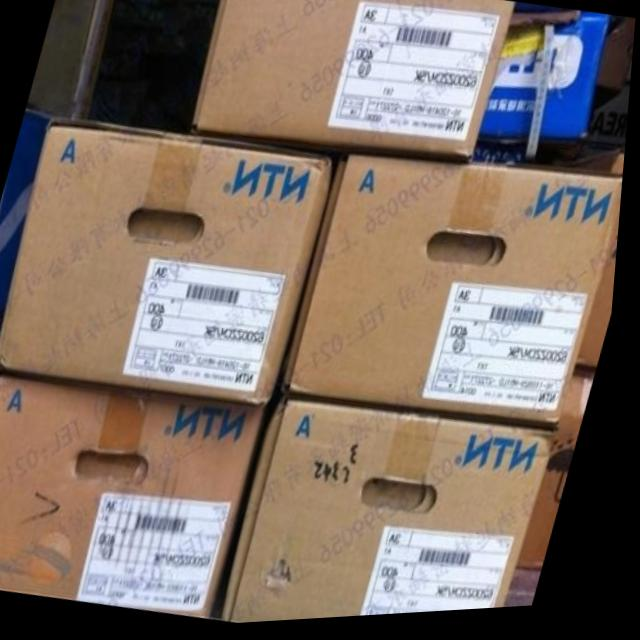box: (0, 121, 346, 412), (283, 153, 626, 432), (232, 397, 566, 626), (0, 373, 280, 621), (193, 0, 515, 168), (525, 372, 603, 578), (581, 197, 625, 377), (553, 155, 628, 185)
